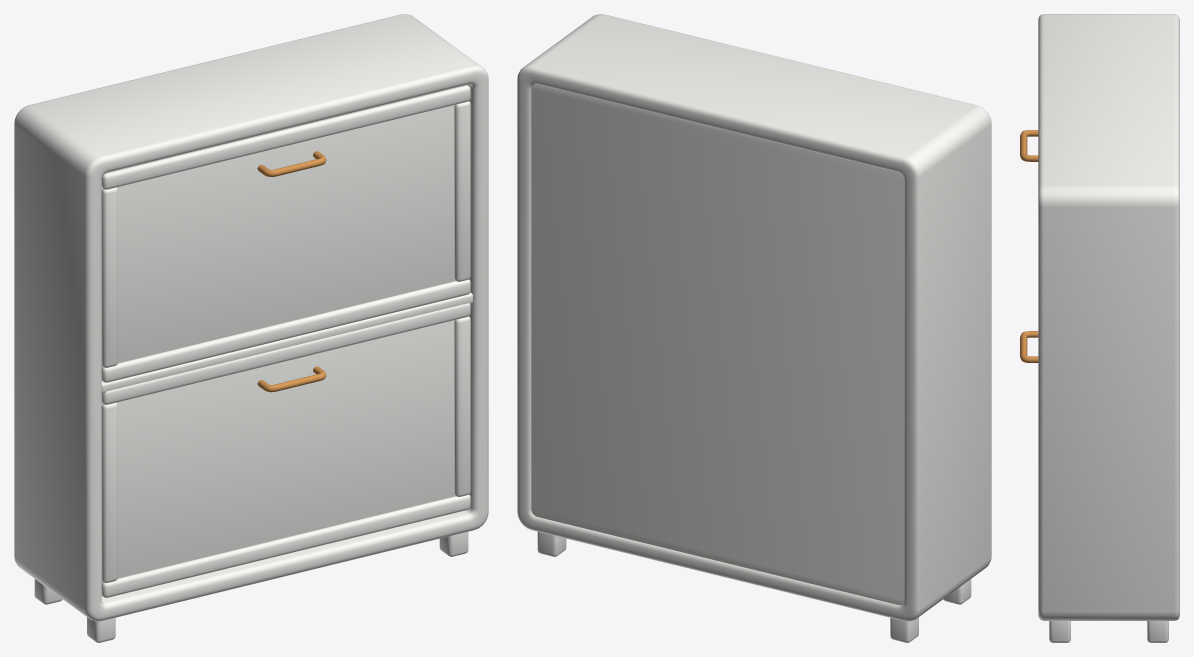
File: sapateira_basculante_branca_2.glb
The picture shows the model from 3 angles, left to right: view 1: azimuth 30°, elevation 25°; view 2: azimuth 150°, elevation 25°; view 3: azimuth 270°, elevation 25°; orthographic projection. The views are drawn at different scales.
Parts seen in each view (by area): view 1: sapateira_basculante_branca_2, basculante_2, basculante_1; view 2: sapateira_basculante_branca_2; view 3: sapateira_basculante_branca_2, basculante_1, basculante_2.
Boxes of the visible parts, bbox=[...] form: sapateira_basculante_branca_2: bbox=[14, 14, 488, 642]; basculante_2: bbox=[101, 85, 470, 382]; basculante_1: bbox=[101, 303, 470, 597]; sapateira_basculante_branca_2: bbox=[517, 14, 991, 642]; sapateira_basculante_branca_2: bbox=[1038, 14, 1179, 642]; basculante_1: bbox=[1020, 331, 1038, 362]; basculante_2: bbox=[1020, 130, 1038, 161].
Size of the model in its own units: 0.8 by 0.93 by 0.2935.
1 material, 1 textured.
